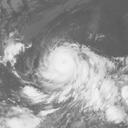cyclone: (36, 42, 86, 93)
